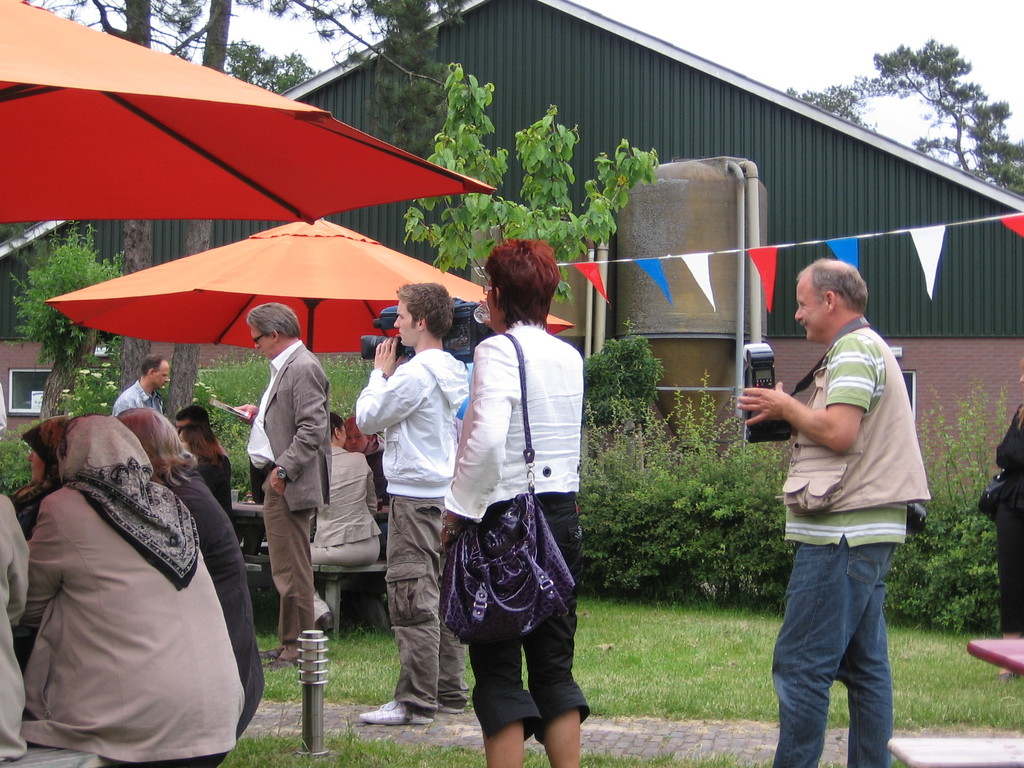Footwear: (357, 701, 436, 731), (428, 698, 466, 715), (263, 657, 296, 675), (316, 609, 337, 636), (996, 673, 1017, 685), (259, 646, 279, 657)
